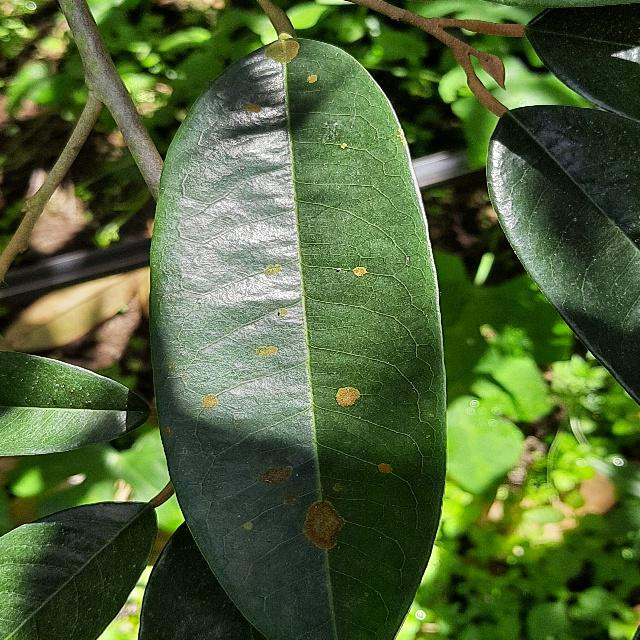Algal Leaf Spot: (142, 33, 454, 639)
